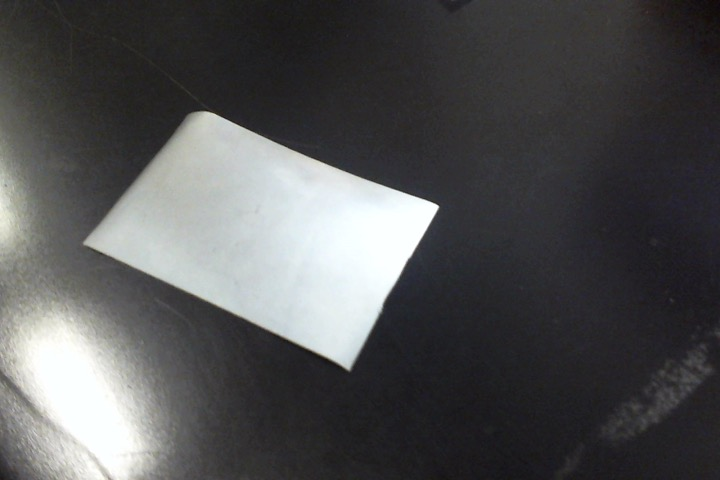Tape: (82, 111, 440, 372)
